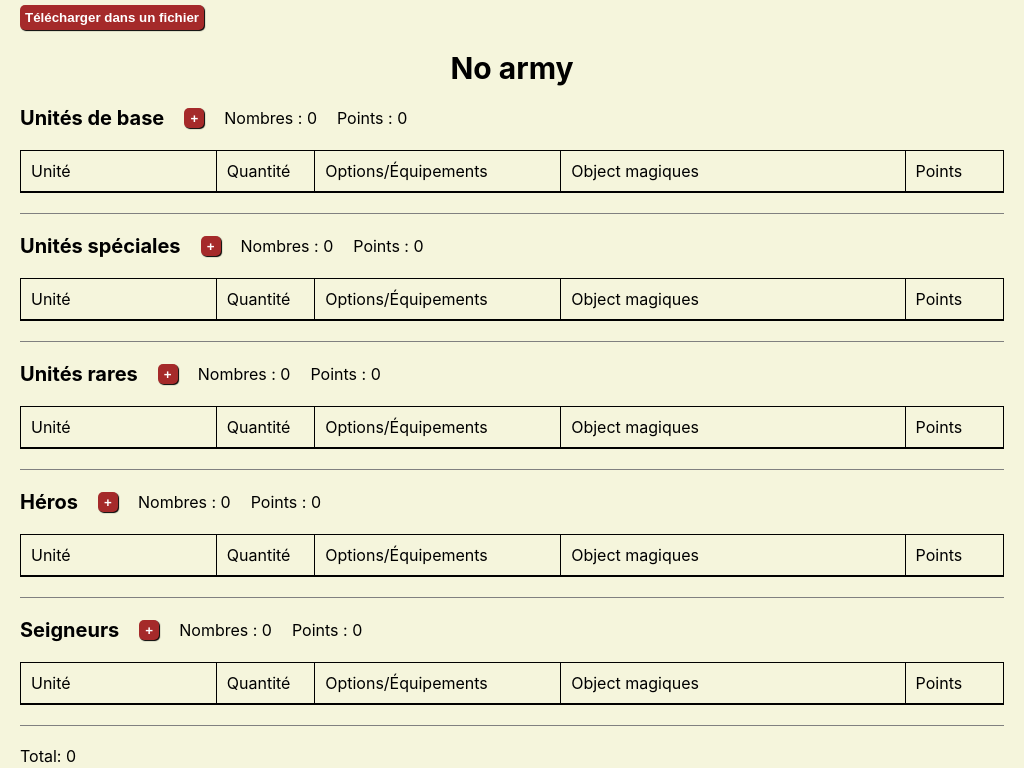
Test: <ArmyCreation /> › should open modal to add unit when clicking on add button
The image size is (1024, 768).
Click the button with test id "AddUnitButtonBASE".
click(194, 118)  # box top-left (184, 108), bottom-right (204, 128)
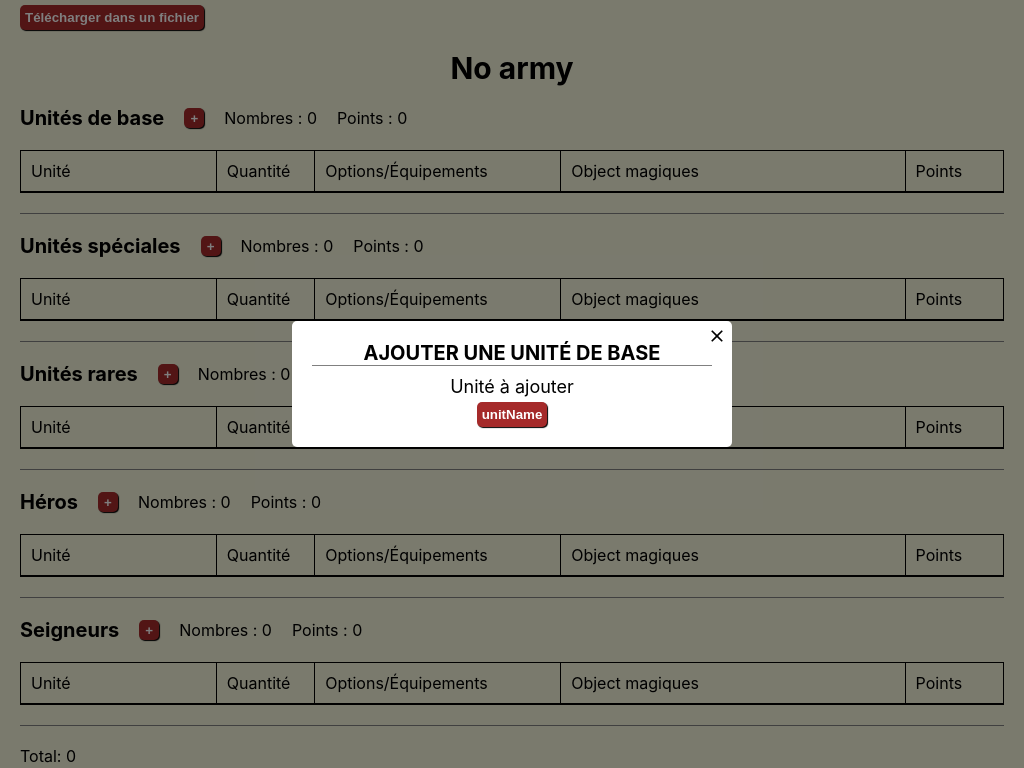
Check: the element with test id "Modal" is shown, box top-left (292, 321), bottom-right (732, 447)
Check: the button "unitName" is shown, box top-left (477, 402), bottom-right (547, 427)
